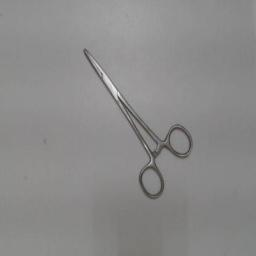Mayo Needle Holder: (76, 39, 198, 205)
